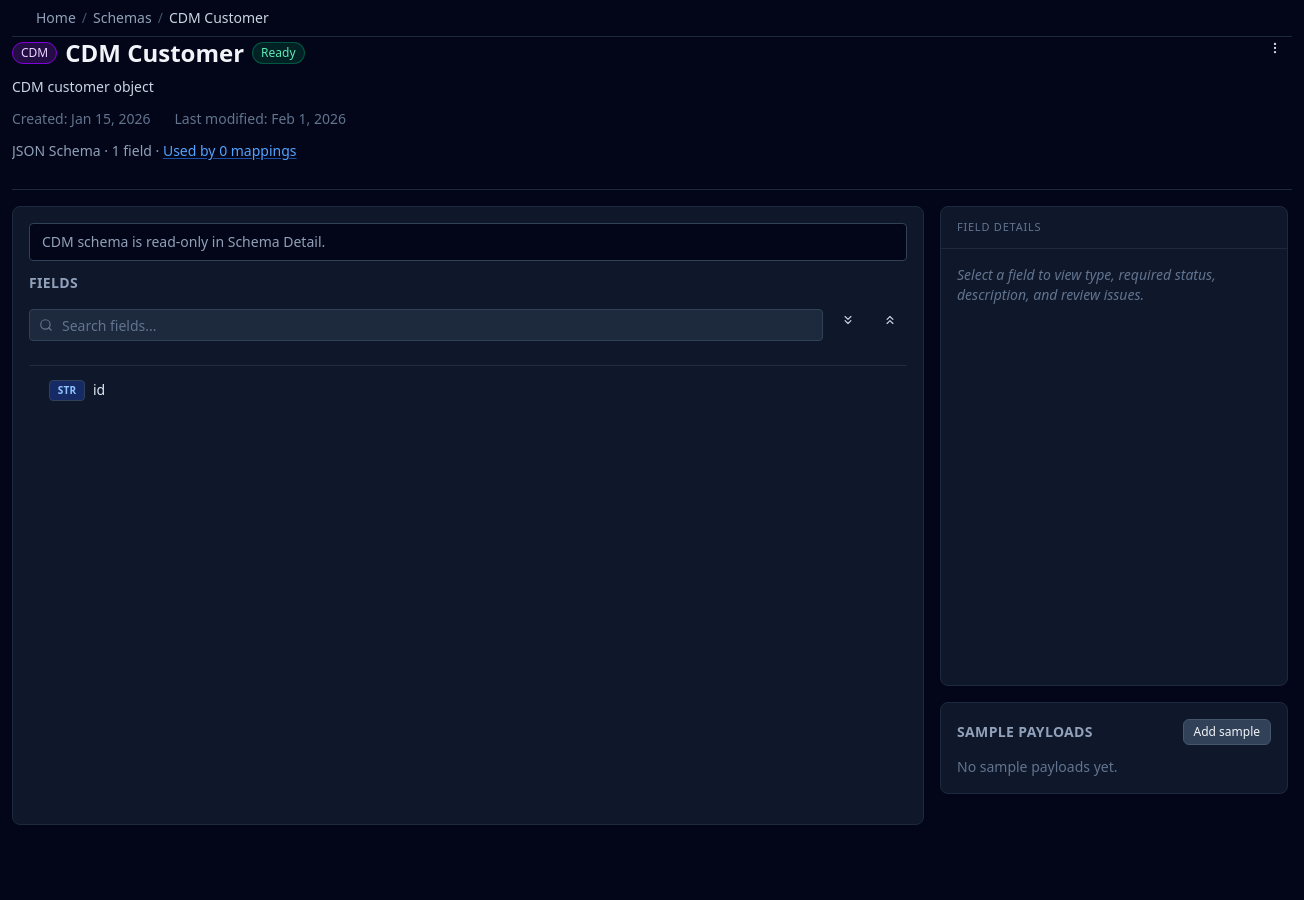
Scenario: SchemaDetailPage › CDM schema keeps Field Details read-only with no edit action
The image size is (1304, 900).
Check: the element with test id "schema-detail-tree" is shown, box [12, 206, 924, 825]
Click the list item "STR id" at (77, 390), box [49, 380, 105, 400]
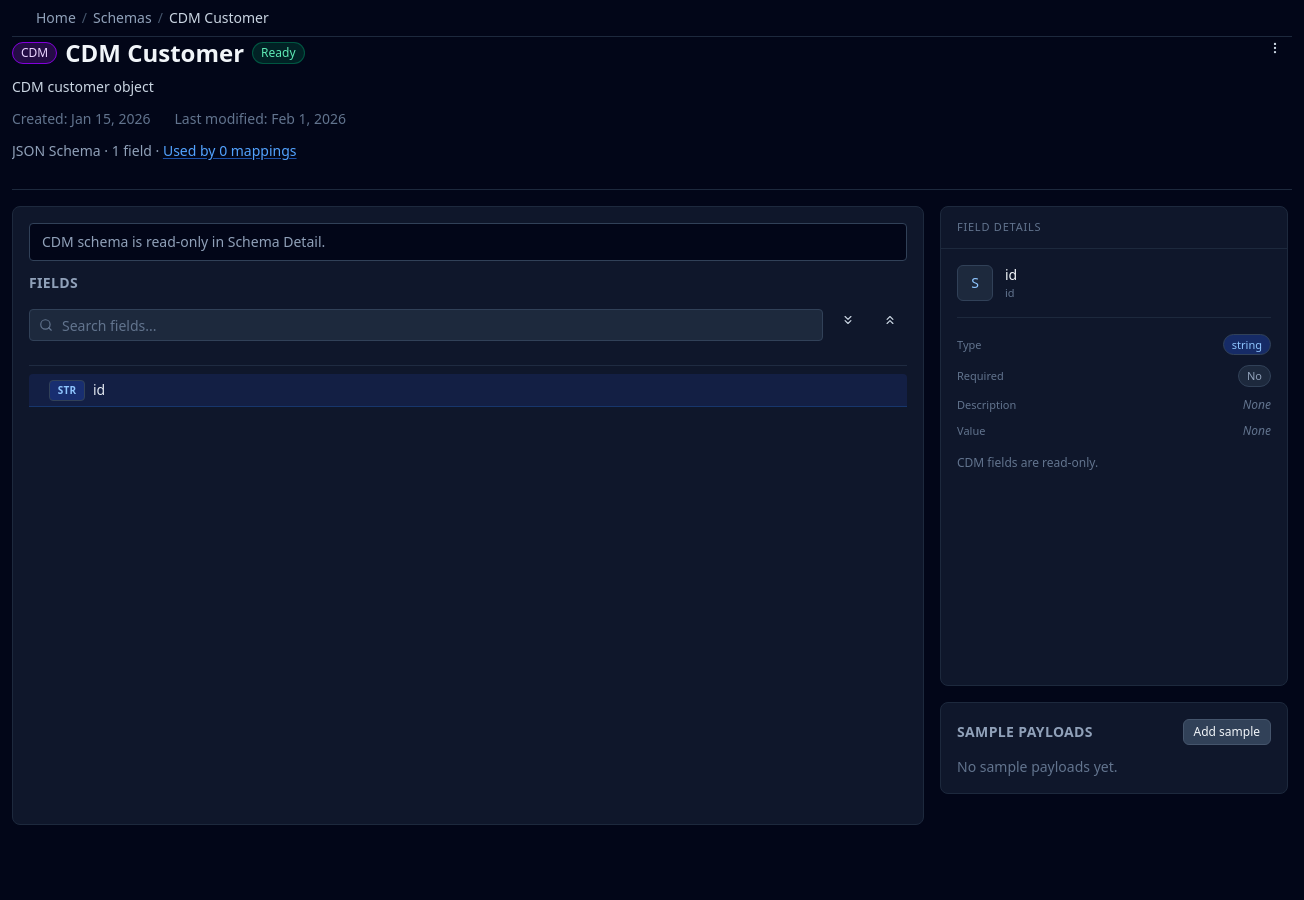
Check: the text "CDM fields are read-only." is shown, box [957, 454, 1098, 471]
